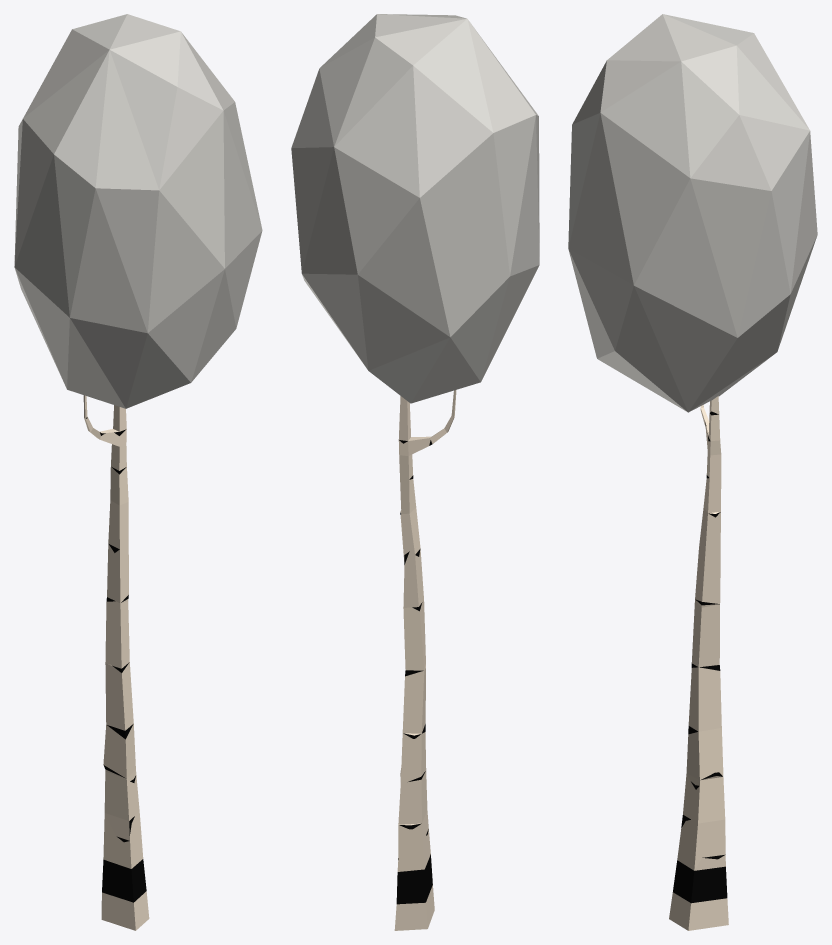
File: Birch_S_flat.glb
The picture shows the model from 3 angles, left to right: view 1: azimuth 30°, elevation 25°; view 2: azimuth 150°, elevation 25°; view 3: azimuth 270°, elevation 25°; orthographic projection.
Parts seen in each view (by area): view 1: Birch small green f; view 2: Birch small green f; view 3: Birch small green f.
Boxes of the visible parts, box(x1,y1,x2,y2) form: Birch small green f: box(14, 14, 262, 930); Birch small green f: box(291, 14, 539, 930); Birch small green f: box(568, 14, 817, 930).
Size of the model in its own units: 2.66 by 10.88 by 2.76.
